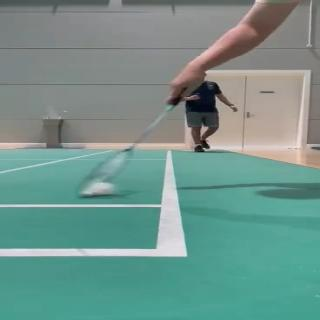Shuttle: (81, 181, 115, 196)
